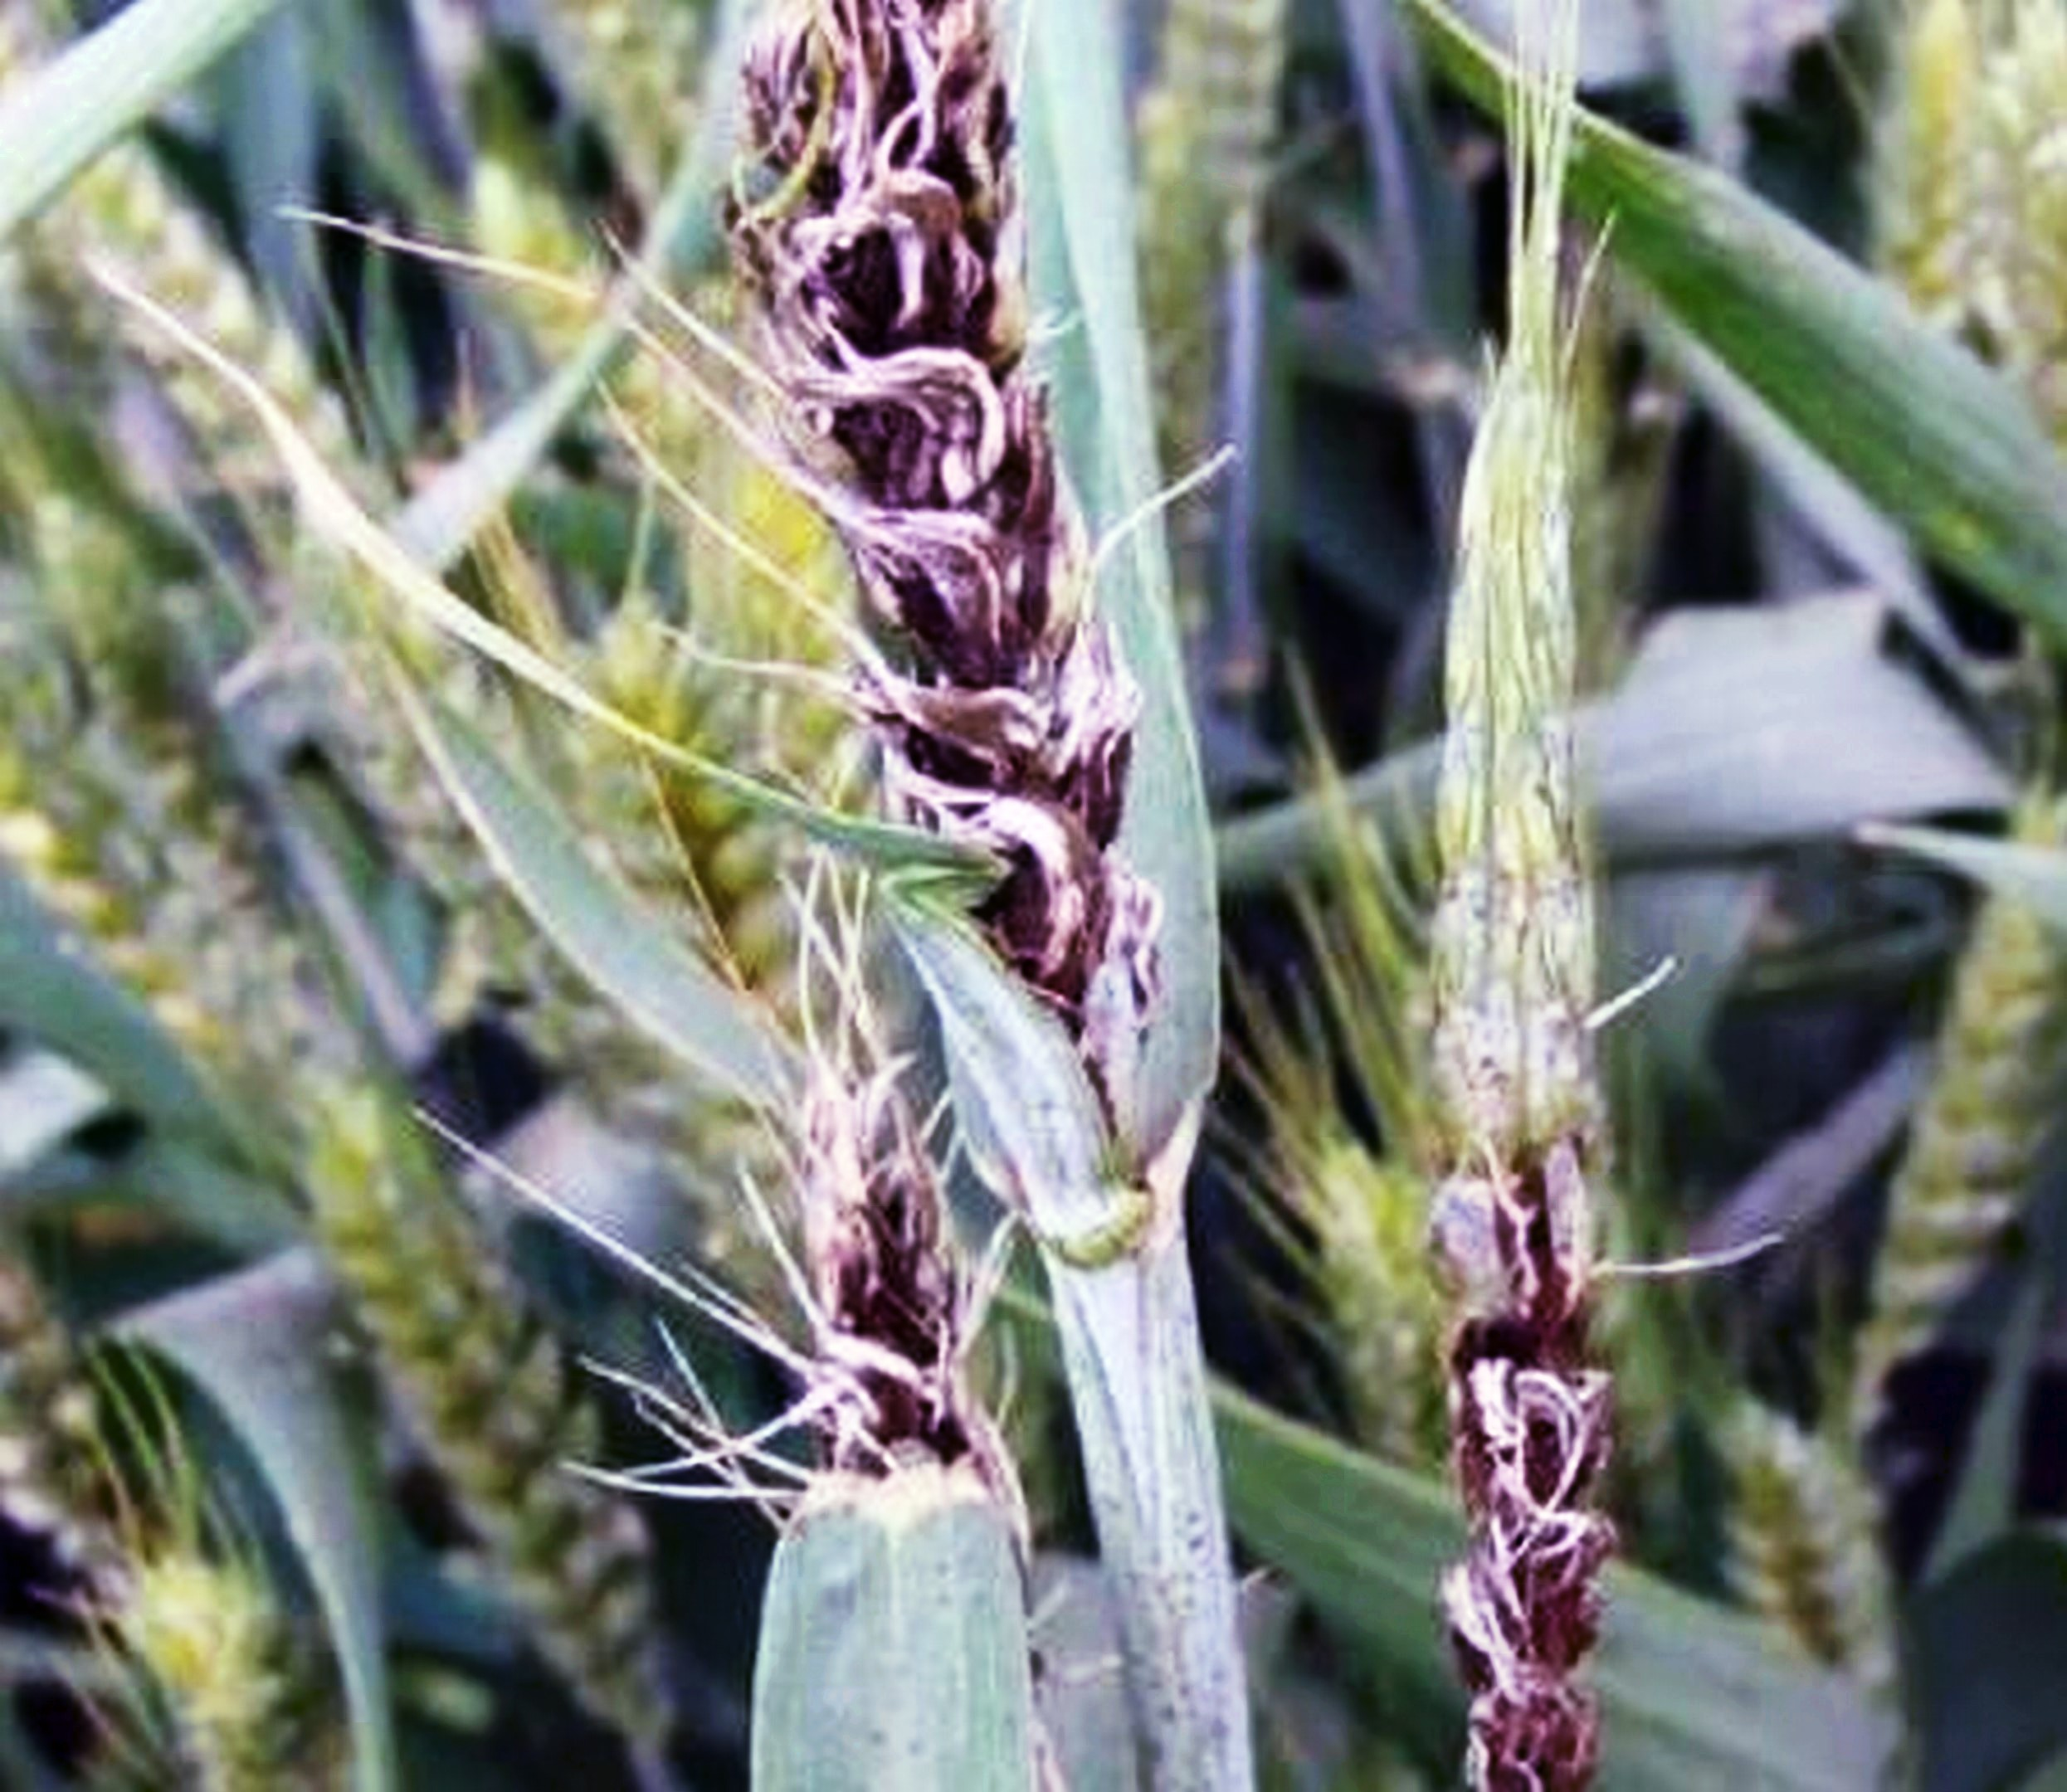Wheat Loose Smut: (701, 16, 1169, 1026)
